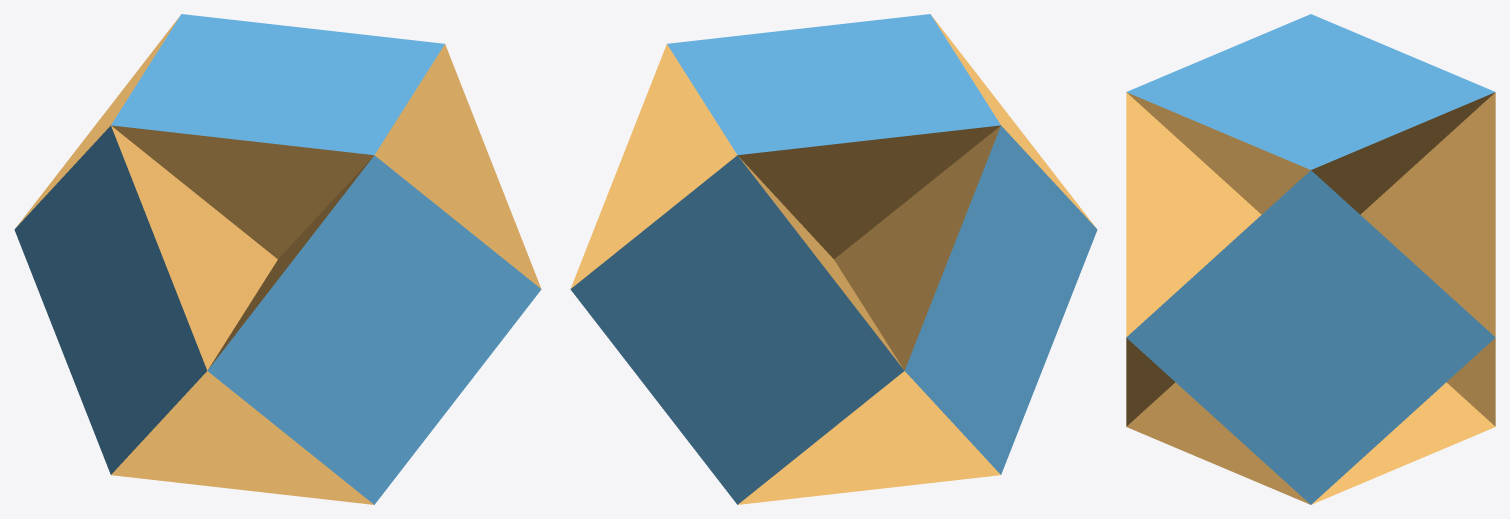
3 renders of one model, left to right at view 1: azimuth 30°, elevation 25°; view 2: azimuth 150°, elevation 25°; view 3: azimuth 270°, elevation 25°, orthographic. The views are drawn at different scales.
Visible parts, largest first — view 1: Cubohemioctahedron_fixed; view 2: Cubohemioctahedron_fixed; view 3: Cubohemioctahedron_fixed.
Part boxes in pixels (x1=…): Cubohemioctahedron_fixed: x1=14, y1=14, x2=541, y2=504; Cubohemioctahedron_fixed: x1=570, y1=14, x2=1097, y2=504; Cubohemioctahedron_fixed: x1=1126, y1=14, x2=1495, y2=504.
Size of the model in its own units: 1.41 by 1.41 by 1.41.
